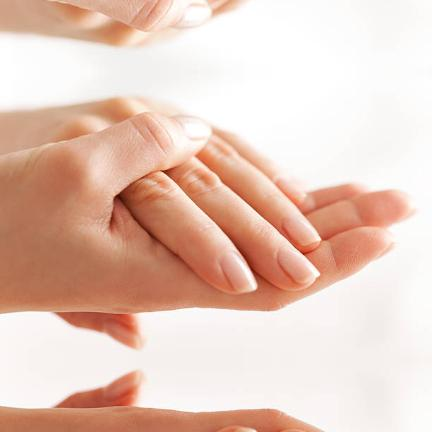Nail: (277, 246, 320, 284), (220, 251, 258, 292), (281, 214, 322, 247), (176, 115, 212, 141), (176, 3, 212, 29), (272, 174, 307, 200), (234, 428, 257, 432)
